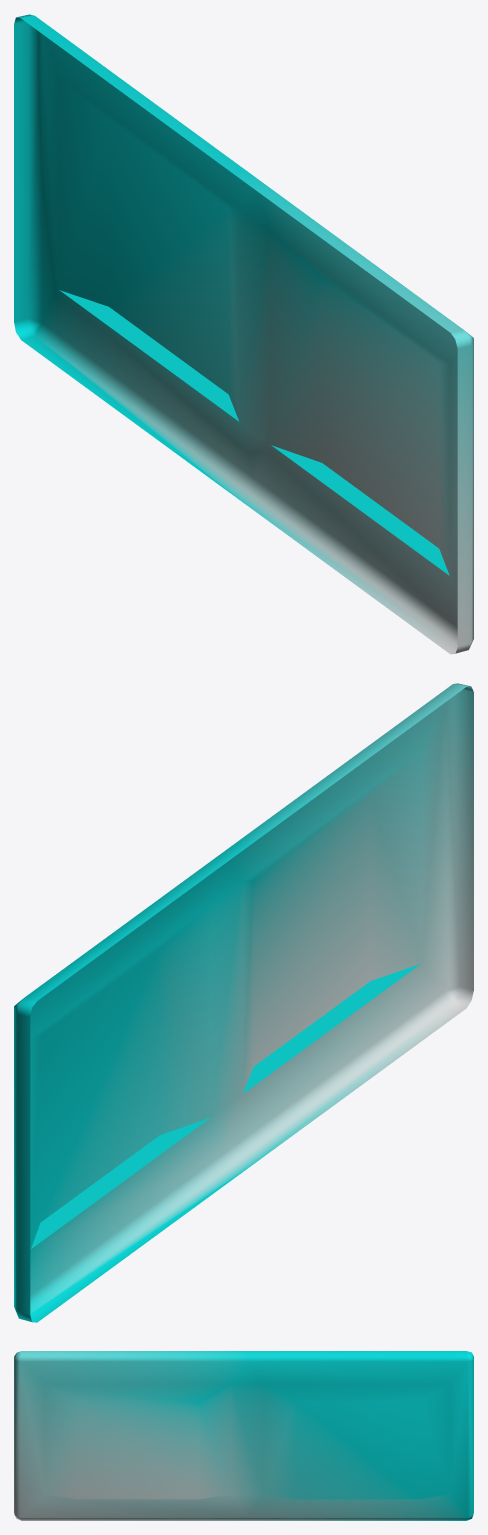
File: SM_vent_01.fbx
3 renders of one model, top to bottom at view 1: azimuth 30°, elevation 25°; view 2: azimuth 150°, elevation 25°; view 3: azimuth 270°, elevation 25°, orthographic. The views are drawn at different scales.
Visible parts, largest first — view 1: SM_vent_01; view 2: SM_vent_01; view 3: SM_vent_01.
Boxes of the visible parts, box(x1,y1,x2,y2) form: SM_vent_01: box(14, 14, 473, 654); SM_vent_01: box(14, 683, 473, 1322); SM_vent_01: box(14, 1351, 473, 1520).
Bounding box in the file's own units: 1.72 × 31.1 × 12.44.
